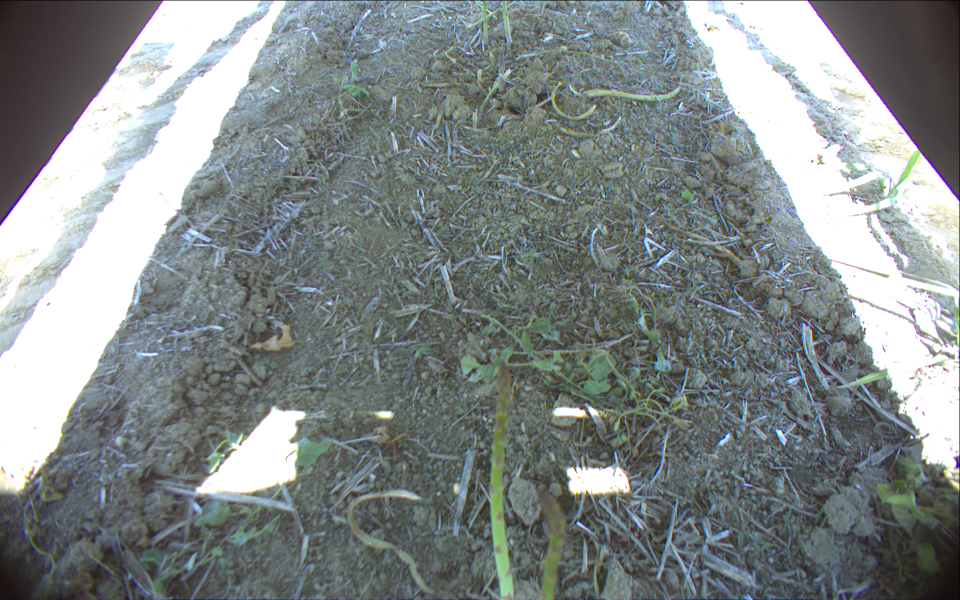aspa: (488, 357, 520, 600), (531, 486, 568, 600), (490, 49, 511, 98), (498, 1, 515, 48), (480, 1, 491, 45)
